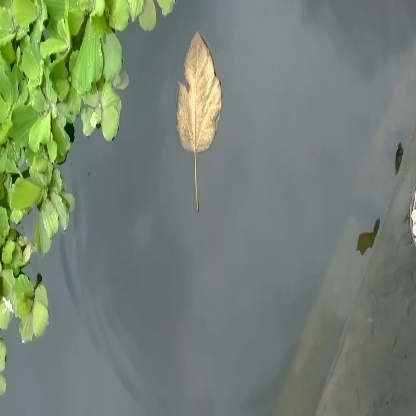leaf: (169, 30, 235, 213)
